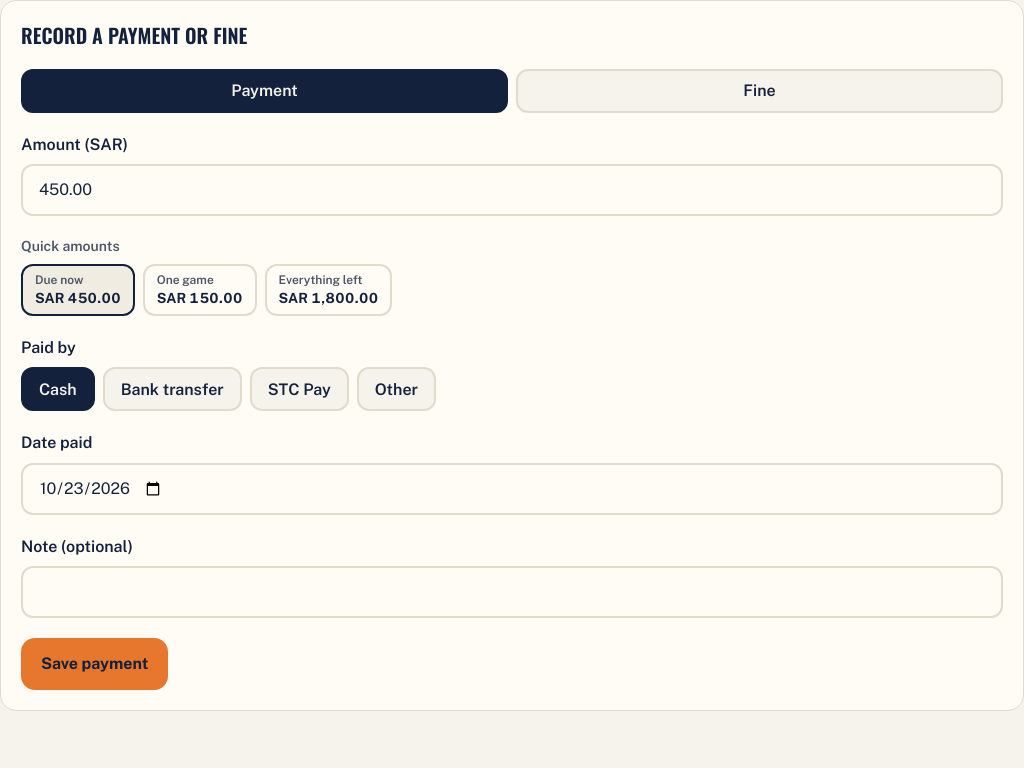
Test case: payment form › fills the usual amounts in one tap
This screenshot has width=1024, height=768.
Check: the field labelled "Amount (SAR)" holds "450.00", box top-left (21, 164), bottom-right (1003, 216)
Step 1. Click the button "One game SAR 150.00" → (200, 290), box top-left (143, 264), bottom-right (257, 316)
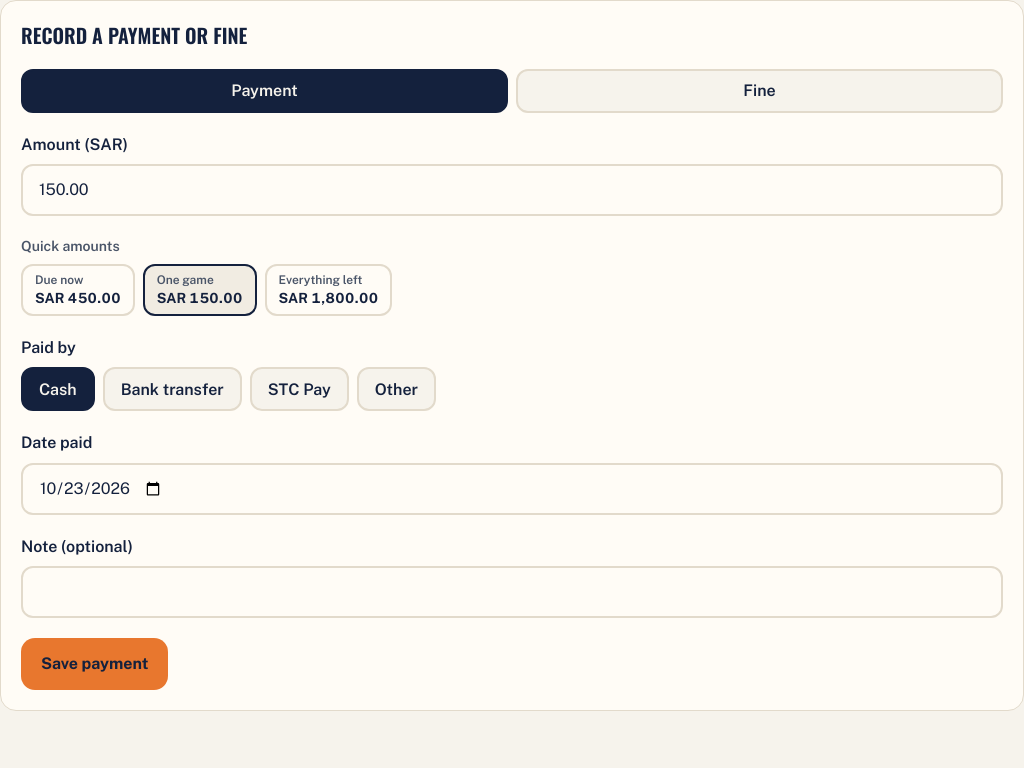
Check: the field labelled "Amount (SAR)" holds "150.00", box top-left (21, 164), bottom-right (1003, 216)
Step 2. Click the button "Everything left SAR 1,800.00" → (328, 290), box top-left (265, 264), bottom-right (392, 316)
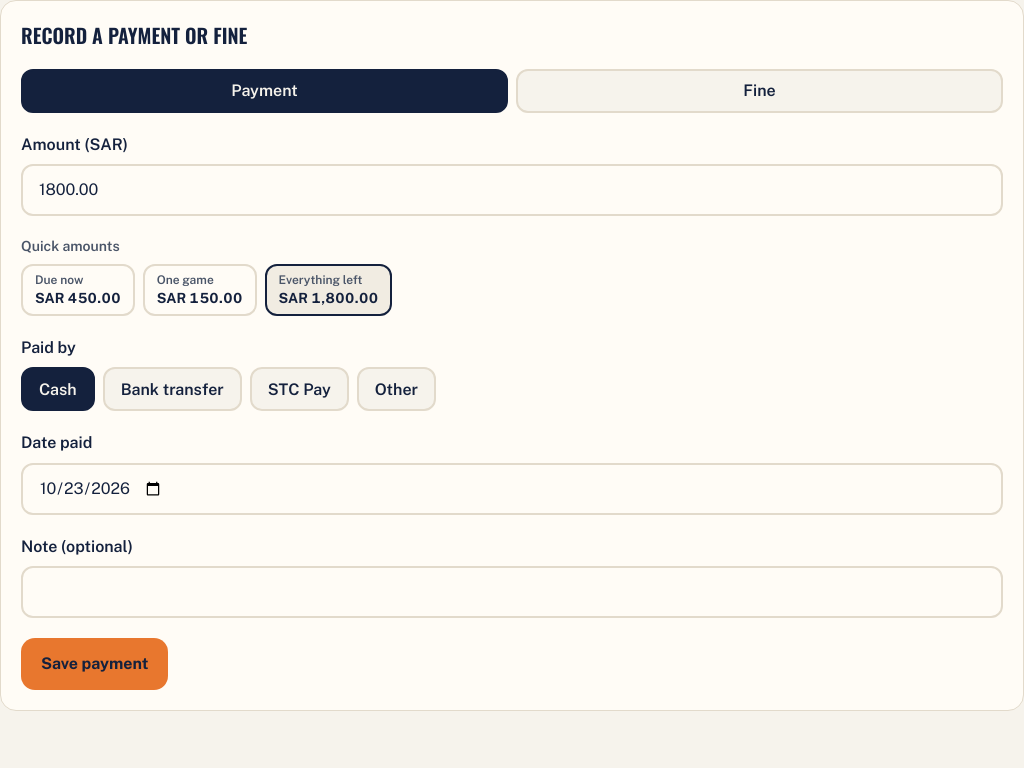
Check: the field labelled "Amount (SAR)" holds "1800.00", box top-left (21, 164), bottom-right (1003, 216)
